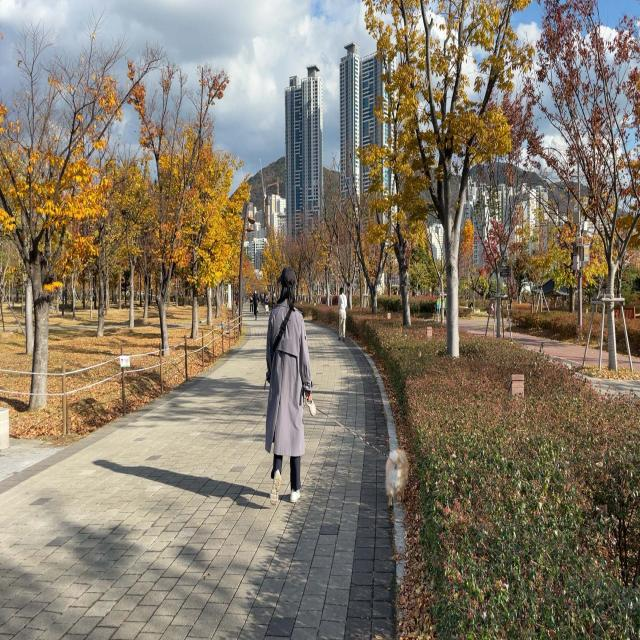Leashed_Dog: (290, 371, 411, 508)
